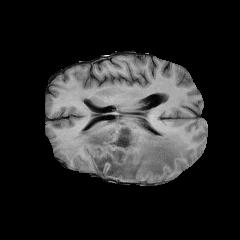glioma: (66, 119, 188, 179)
